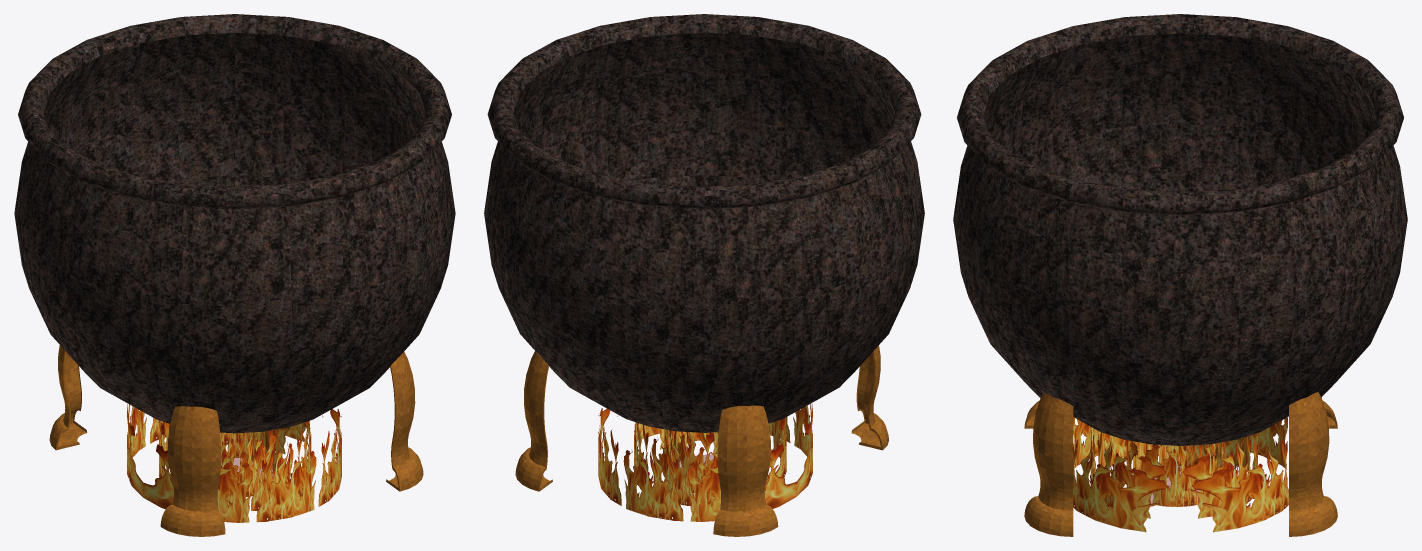
3 views of the same model, side by side, from view 1: azimuth 30°, elevation 25°; view 2: azimuth 150°, elevation 25°; view 3: azimuth 270°, elevation 25° (orthographic). The views are drawn at different scales.
Visible parts, largest first — view 1: SketchUp (×5), group_2, group_1, group_0; view 2: SketchUp (×5), group_2, group_1, group_0; view 3: SketchUp (×4), group_2, group_1, group_0.
Boxes of the visible parts, left/top/right/bottom form: SketchUp (×5): left=14, top=14, right=455, bottom=536; group_2: left=127, top=404, right=341, bottom=522; group_1: left=159, top=420, right=311, bottom=510; group_0: left=220, top=429, right=279, bottom=497; SketchUp (×5): left=484, top=14, right=924, bottom=536; group_2: left=598, top=404, right=812, bottom=521; group_1: left=634, top=417, right=786, bottom=505; group_0: left=664, top=429, right=718, bottom=492; SketchUp (×4): left=953, top=14, right=1407, bottom=536; group_2: left=1073, top=417, right=1288, bottom=532; group_1: left=1090, top=427, right=1257, bottom=518; group_0: left=1126, top=440, right=1225, bottom=506.
Size of the model in its own units: 37.01 by 37.01 by 34.61.
Materials: 5 (4 with a texture image).
